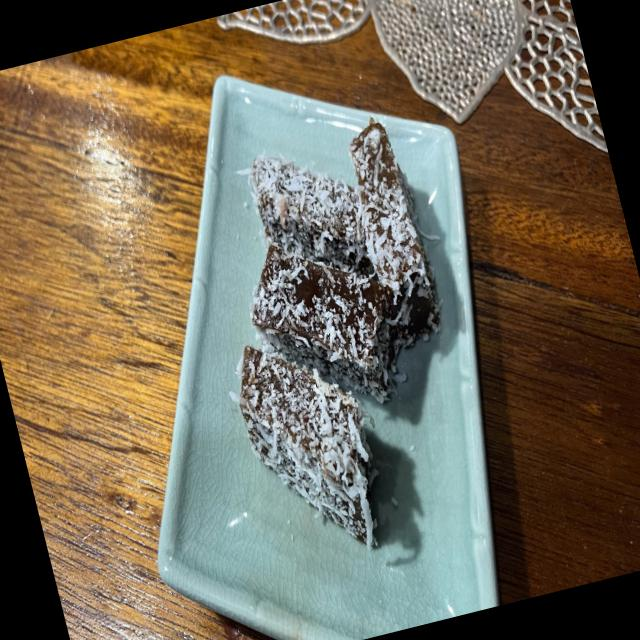kaswi: (237, 344, 377, 548), (250, 244, 395, 401), (349, 117, 439, 345), (251, 153, 375, 276)
